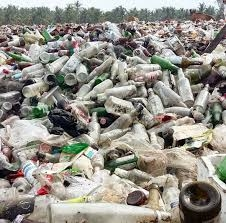glass: (43, 197, 172, 223), (12, 151, 50, 192), (174, 65, 197, 105), (83, 77, 115, 104), (102, 94, 137, 117), (131, 101, 158, 130), (11, 60, 45, 83), (105, 151, 141, 171), (144, 85, 166, 117), (149, 52, 182, 73), (85, 111, 102, 147), (191, 81, 210, 113), (21, 79, 51, 98)
plastic: (177, 178, 222, 219), (45, 106, 88, 142), (58, 52, 82, 79), (120, 186, 151, 206), (74, 60, 89, 83)
